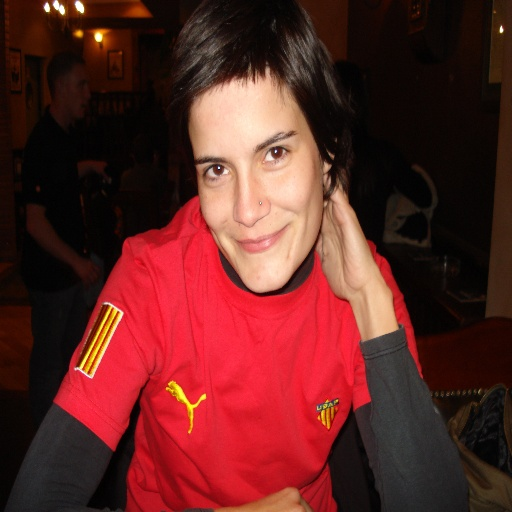hand: (330, 197, 403, 381), (312, 135, 379, 302), (226, 485, 315, 511), (77, 257, 100, 287), (90, 160, 113, 187)
